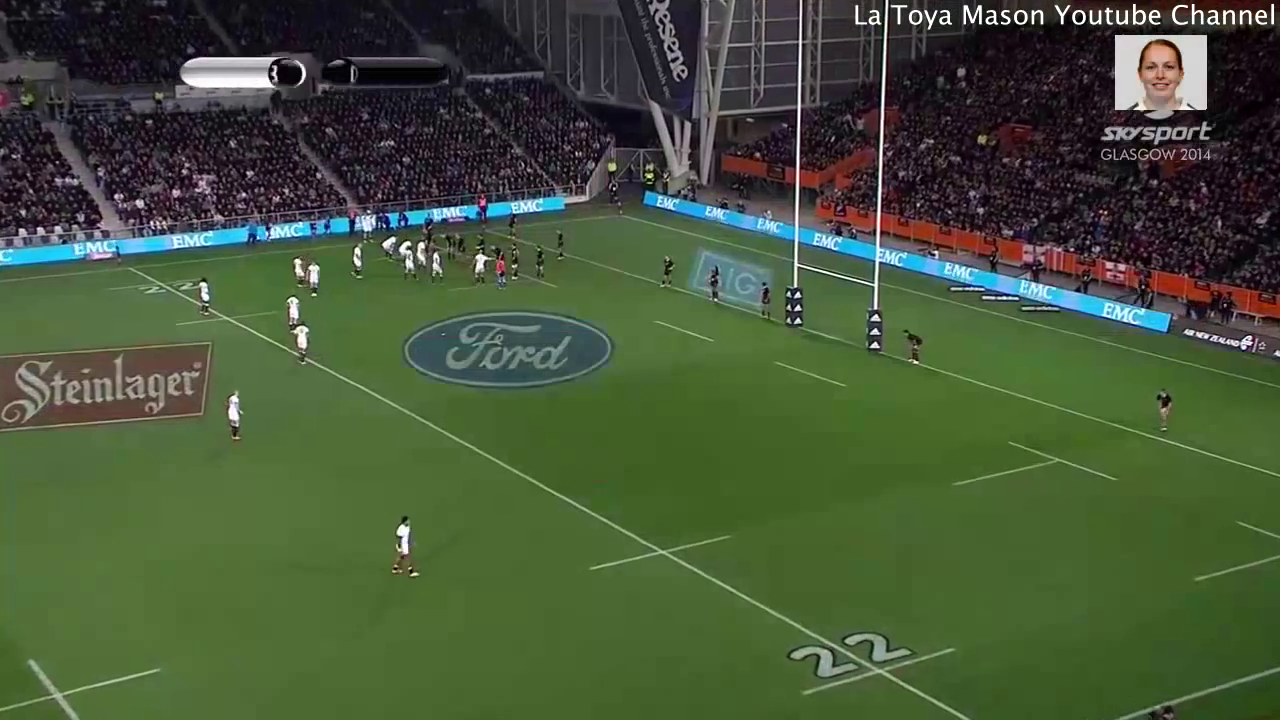10_metre: (1, 645, 168, 720)
player: (384, 509, 424, 586), (217, 383, 257, 455), (1148, 384, 1177, 435), (287, 318, 313, 369), (468, 248, 497, 288), (191, 270, 214, 320), (288, 248, 311, 295), (702, 261, 725, 308), (281, 293, 303, 341), (303, 258, 327, 300), (898, 327, 926, 363), (345, 238, 366, 284), (426, 247, 448, 290), (658, 249, 675, 294), (401, 244, 420, 284), (758, 280, 773, 324), (491, 258, 510, 292), (530, 243, 547, 280), (451, 227, 470, 260), (504, 210, 521, 245), (412, 235, 427, 274), (378, 234, 398, 263), (439, 230, 456, 262), (507, 240, 520, 281), (552, 226, 565, 263), (420, 215, 434, 244), (395, 234, 410, 261), (470, 230, 486, 253), (489, 243, 505, 261)
post: (779, 1, 891, 357)
